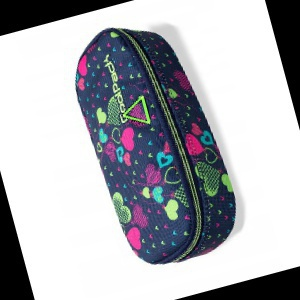triangle: (122, 93, 153, 125)
